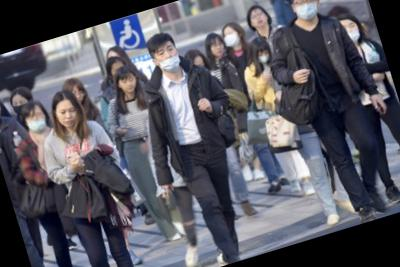mask_weared_incorrect: (153, 43, 185, 76), (24, 107, 52, 137), (340, 19, 364, 45)
with_mask: (221, 28, 245, 52), (11, 96, 33, 120), (256, 47, 274, 66)
without_mask: (54, 102, 82, 131), (117, 73, 140, 97), (249, 8, 273, 31), (209, 40, 228, 60), (71, 86, 89, 106)
